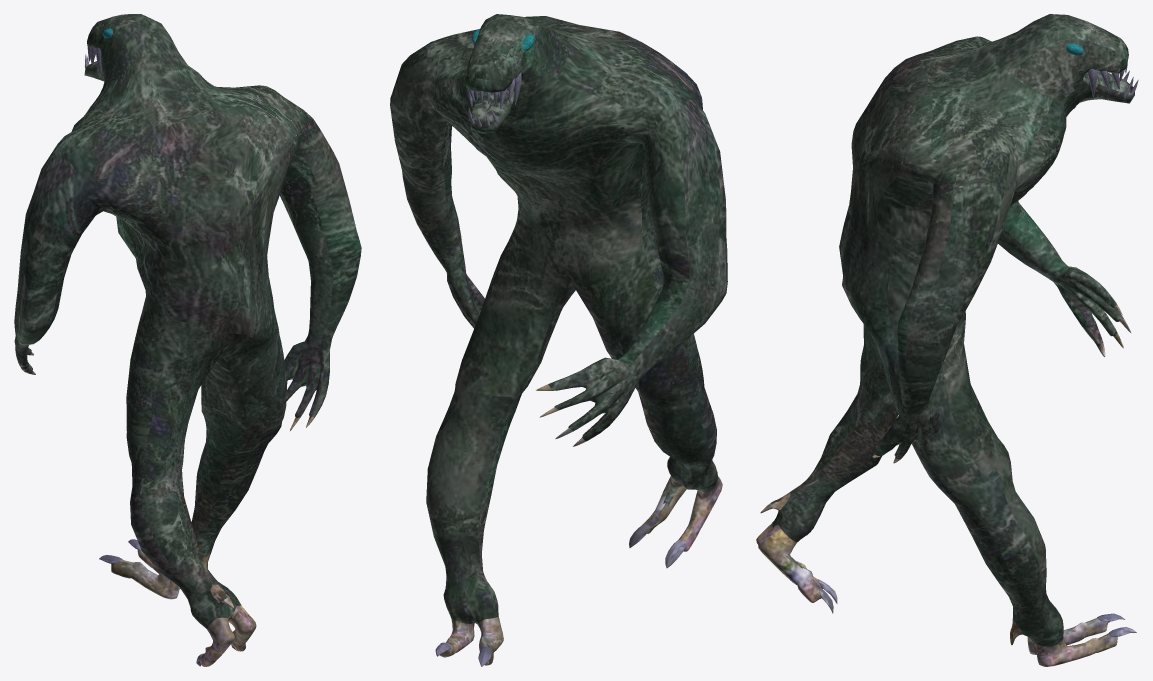
File: Andar.0012.obj
3 renders of one model, left to right at view 1: azimuth 30°, elevation 25°; view 2: azimuth 150°, elevation 25°; view 3: azimuth 270°, elevation 25°, orthographic. The views are drawn at different scales.
Parts seen in each view (by area): view 1: polySurface28; view 2: polySurface28; view 3: polySurface28.
Boxes of the visible parts, x1,y1,x2,y2 form: polySurface28: (14, 14, 361, 666); polySurface28: (390, 14, 727, 666); polySurface28: (756, 14, 1138, 666).
Size of the model in its own units: 1.26 by 2.27 by 1.26.
4 materials, 4 textured.
